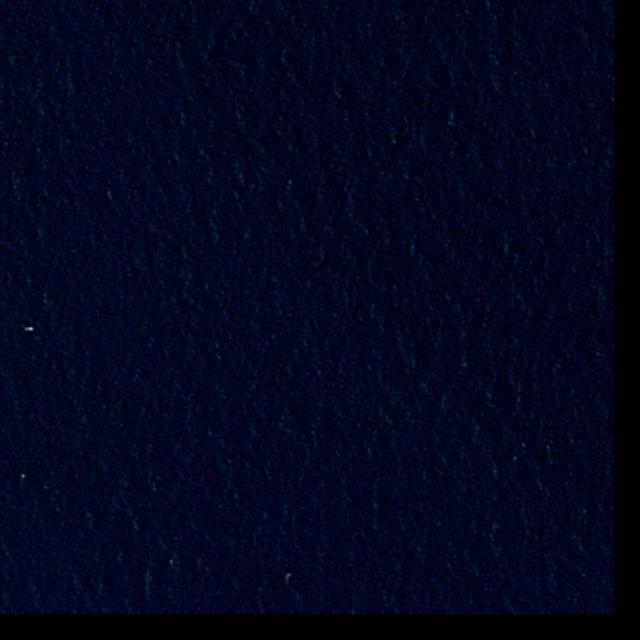ship: (26, 327, 34, 332)
